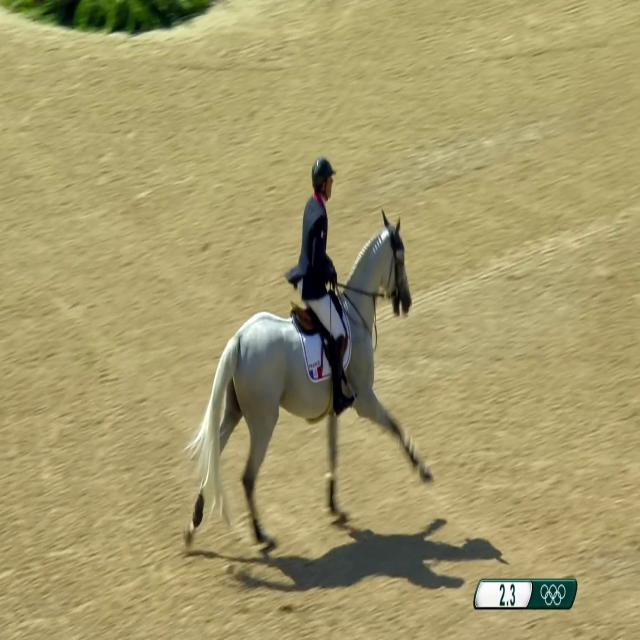Horse Rider: (280, 138, 359, 418)
Horse Running: (185, 173, 439, 546)
